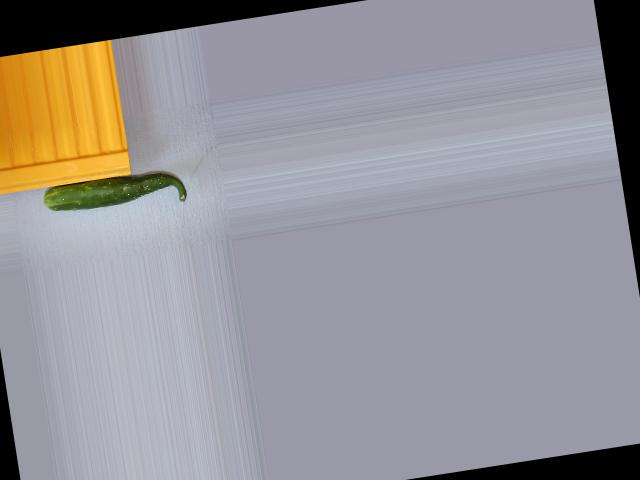cucumber: (42, 165, 188, 222)
